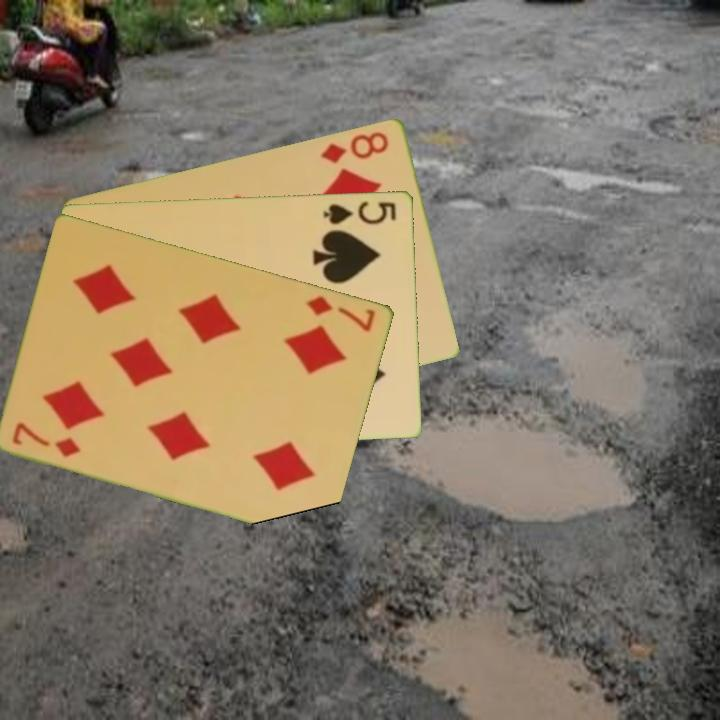5s: (320, 197, 399, 227)
7d: (303, 292, 379, 335), (9, 418, 84, 460)
8d: (317, 127, 392, 166)
